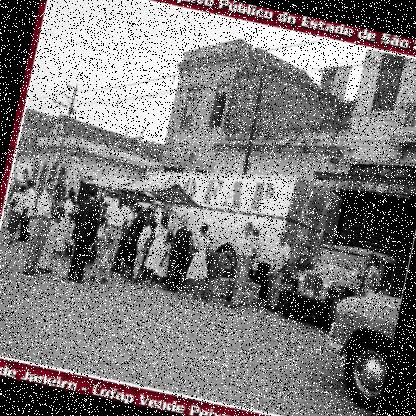Car: (316, 286, 401, 407)
